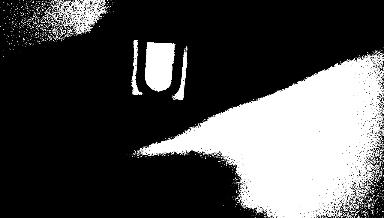U: (130, 36, 187, 100)
